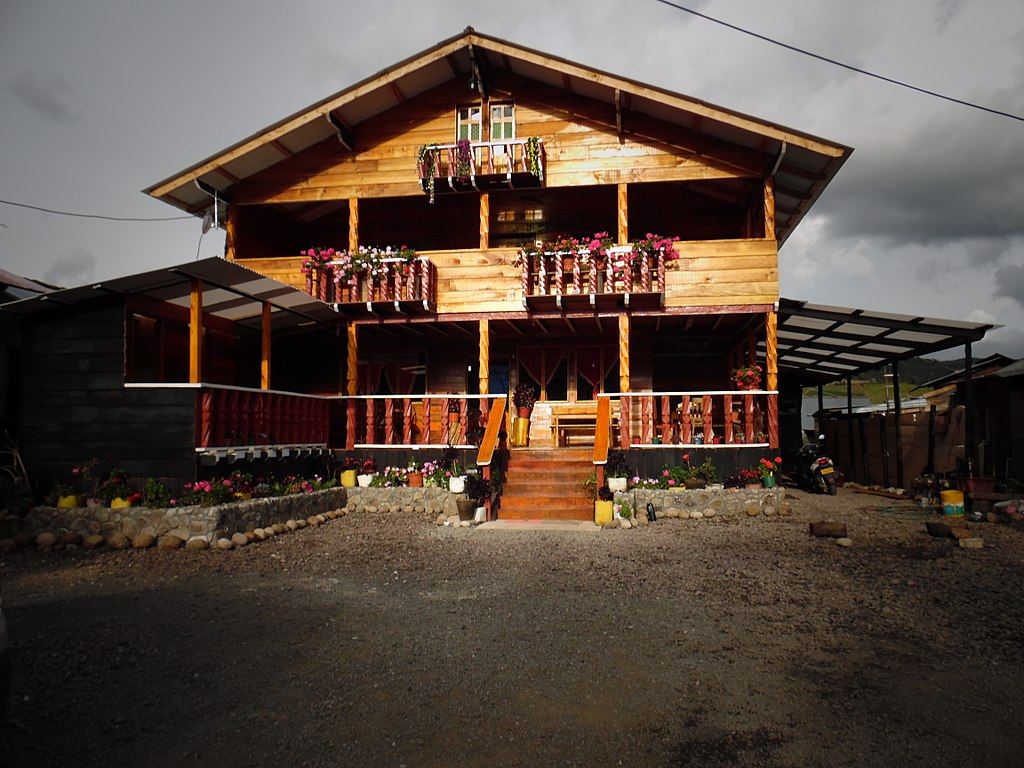House: (134, 20, 846, 531)
